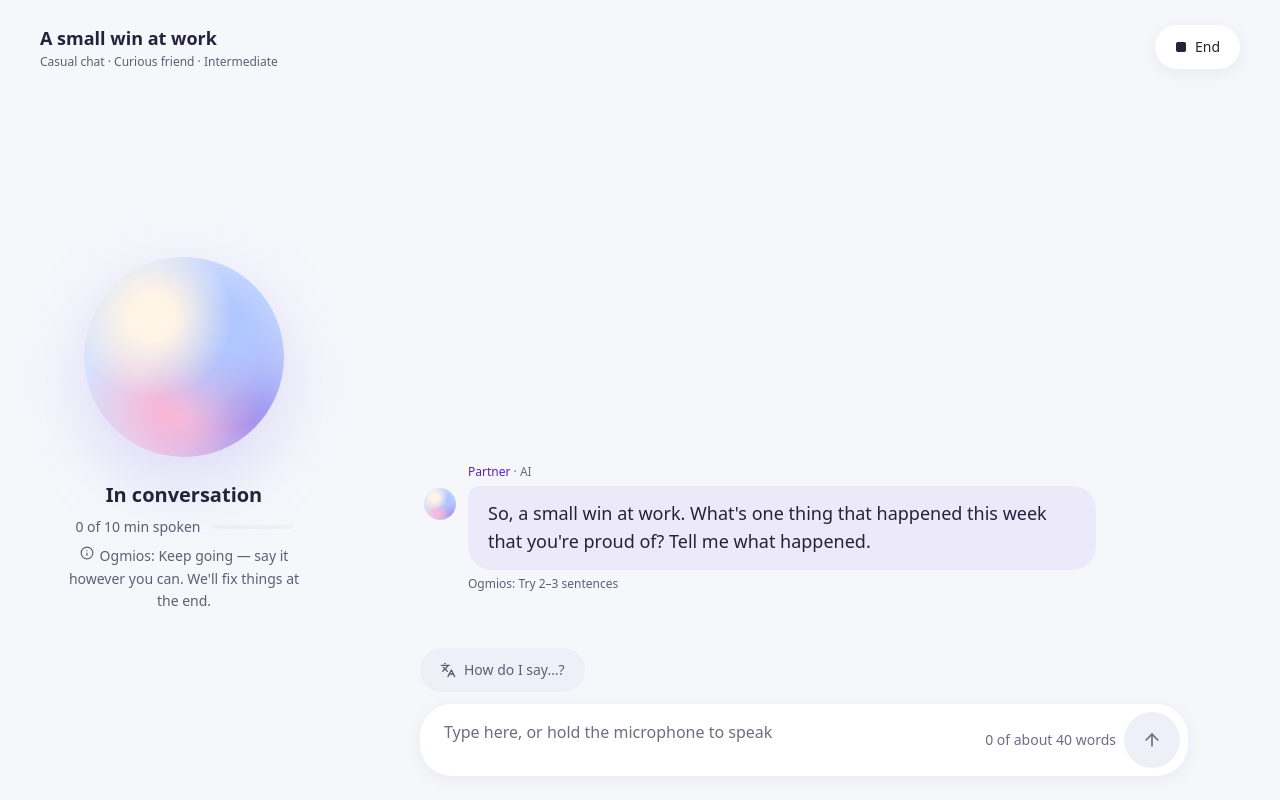
Test: Conversation › nothing on the chat screen corrects
Expected: the text "Ogmios: Try 2–3 sentences" is shown, [468,575,618,592]
Step 1. Type "I have went there yesterday" into the text box named "Your answer" → (711, 740), box [444,712,977,768]
Then press Enter
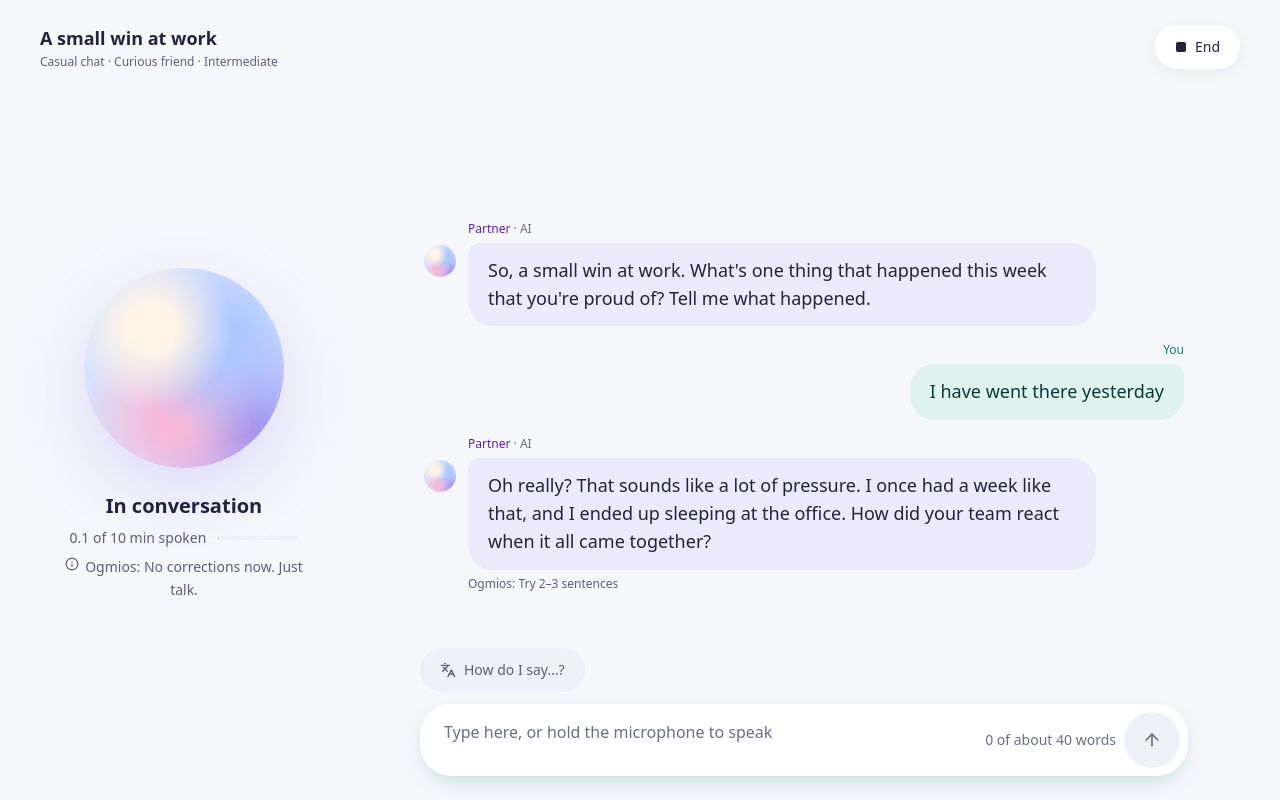
Expected: the text "sleeping at the office" is shown, [488,473,1059,553]
